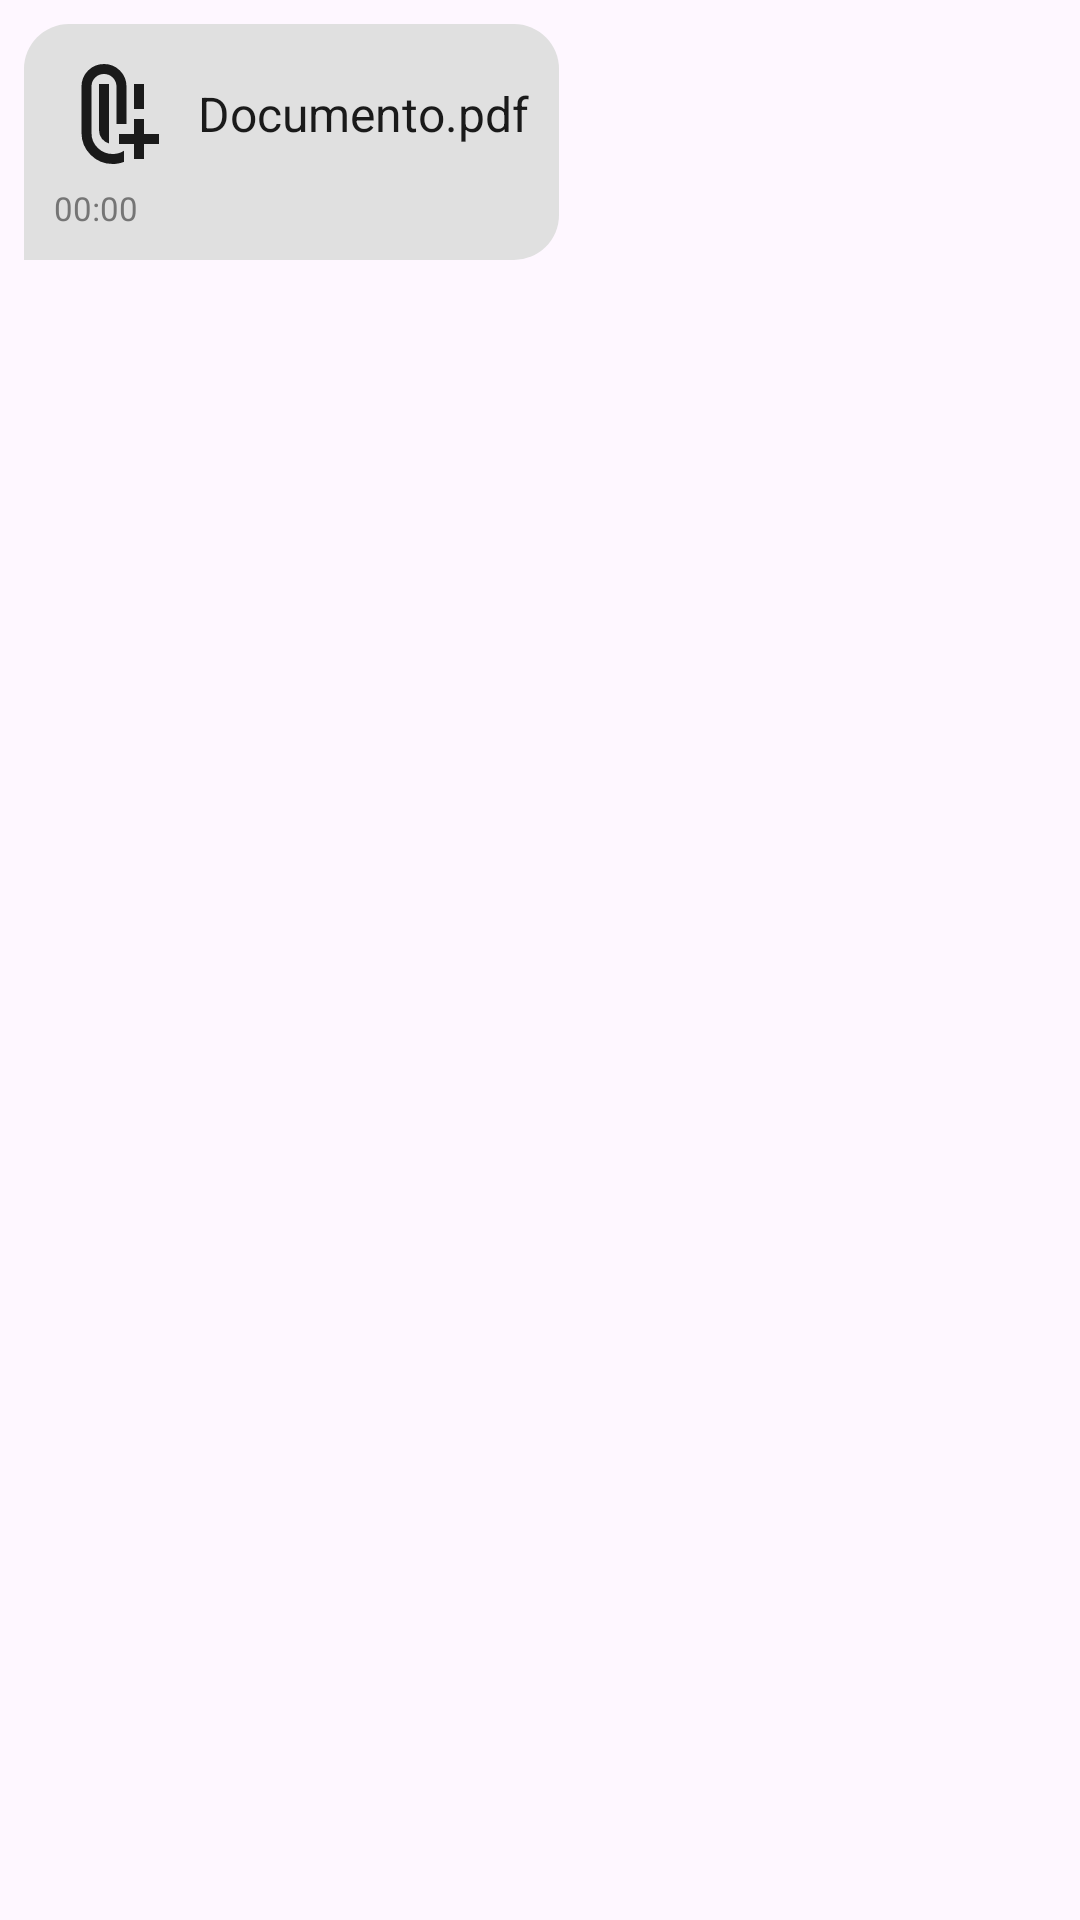

Icon click points for this 1080px x 1920px phone screenshot, format (x=x, y=y):
adddocument: (x=120, y=114)
